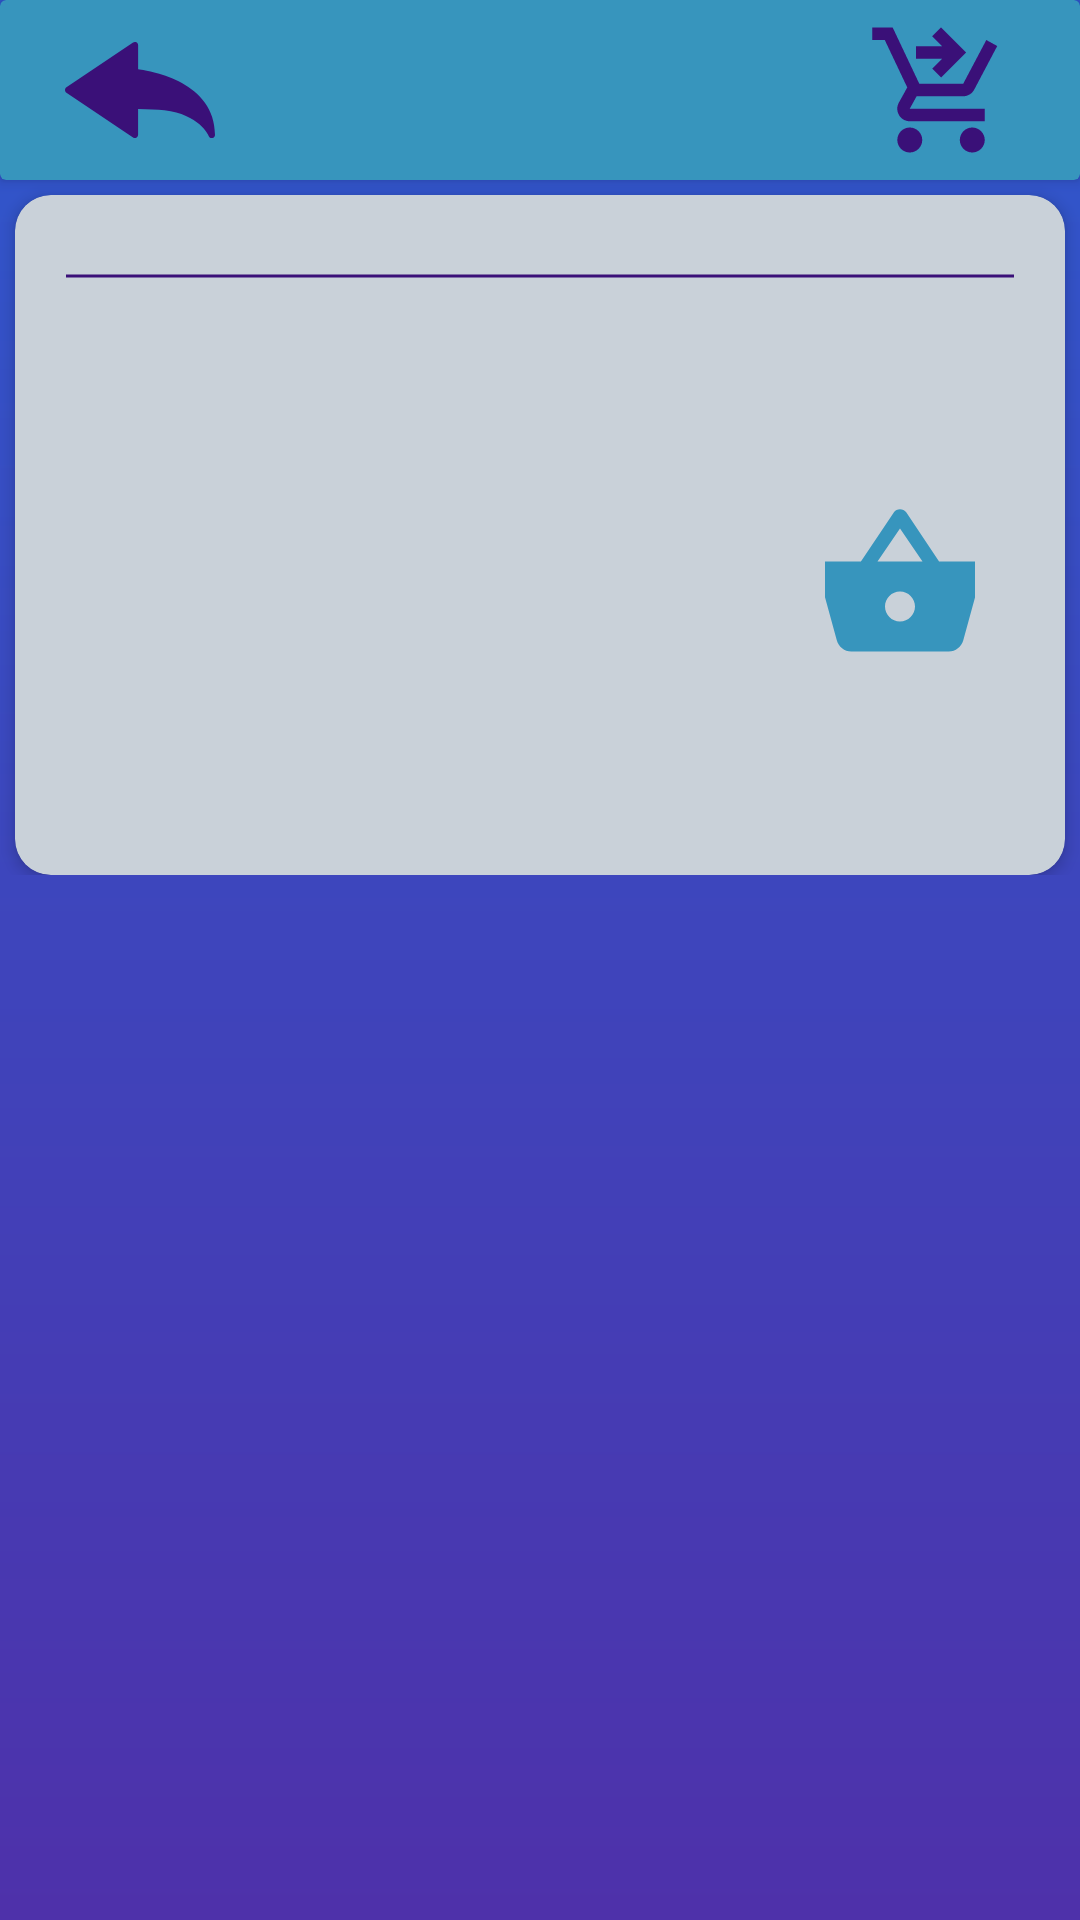

Screen size 1080x1920. Icon name, then its box in pixels as (left=x1, top=y1, right=x2, bottom=y2):
back arrow: (left=65, top=42, right=215, bottom=138)
shopping basket: (left=825, top=509, right=975, bottom=652)
shopping cart checkout: (left=872, top=27, right=997, bottom=153)
